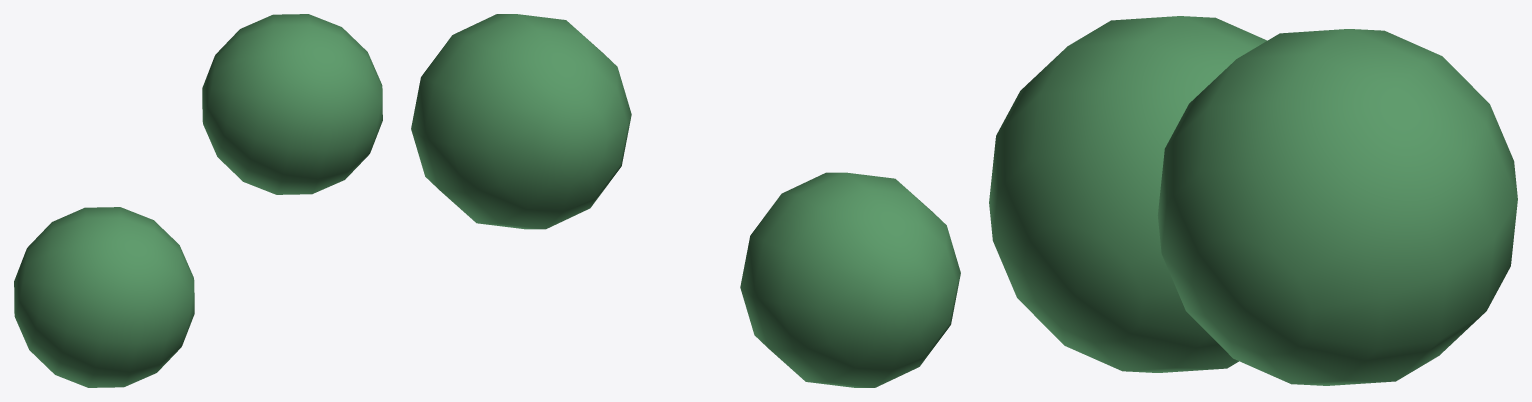
3 views of the same model, side by side, from view 1: azimuth 30°, elevation 25°; view 2: azimuth 150°, elevation 25°; view 3: azimuth 270°, elevation 25° (orthographic). The views are drawn at different scales.
Visible parts, largest first — view 1: 幽门下淋巴结; view 2: 幽门下淋巴结; view 3: 幽门下淋巴结.
Part boxes in pixels (x1,y1,x2,y2): 幽门下淋巴结: (14, 14, 382, 387); 幽门下淋巴结: (411, 14, 960, 387); 幽门下淋巴结: (989, 16, 1517, 385).
Size of the model in its own units: 0.00929 by 0.00619 by 0.00551.
